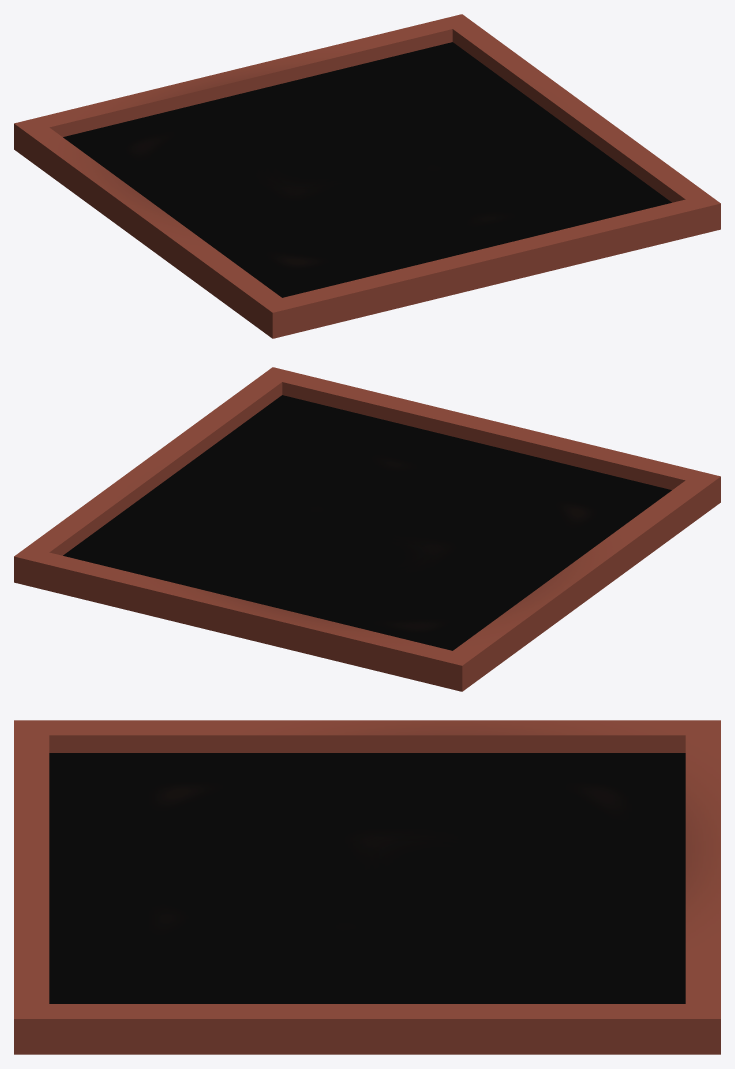
Rendered from Stairs.obj.
3 renders of one model, top to bottom at view 1: azimuth 30°, elevation 25°; view 2: azimuth 150°, elevation 25°; view 3: azimuth 270°, elevation 25°, orthographic. The views are drawn at different scales.
Visible parts, largest first — view 1: Cube; view 2: Cube; view 3: Cube.
Part boxes in pixels (<box>): Cube: <box>14,14,720,338</box>; Cube: <box>14,367,720,691</box>; Cube: <box>14,720,720,1054</box>.
Bounding box in the file's own units: 1.8 × 0.1 × 1.8.
1 material, 1 textured.
